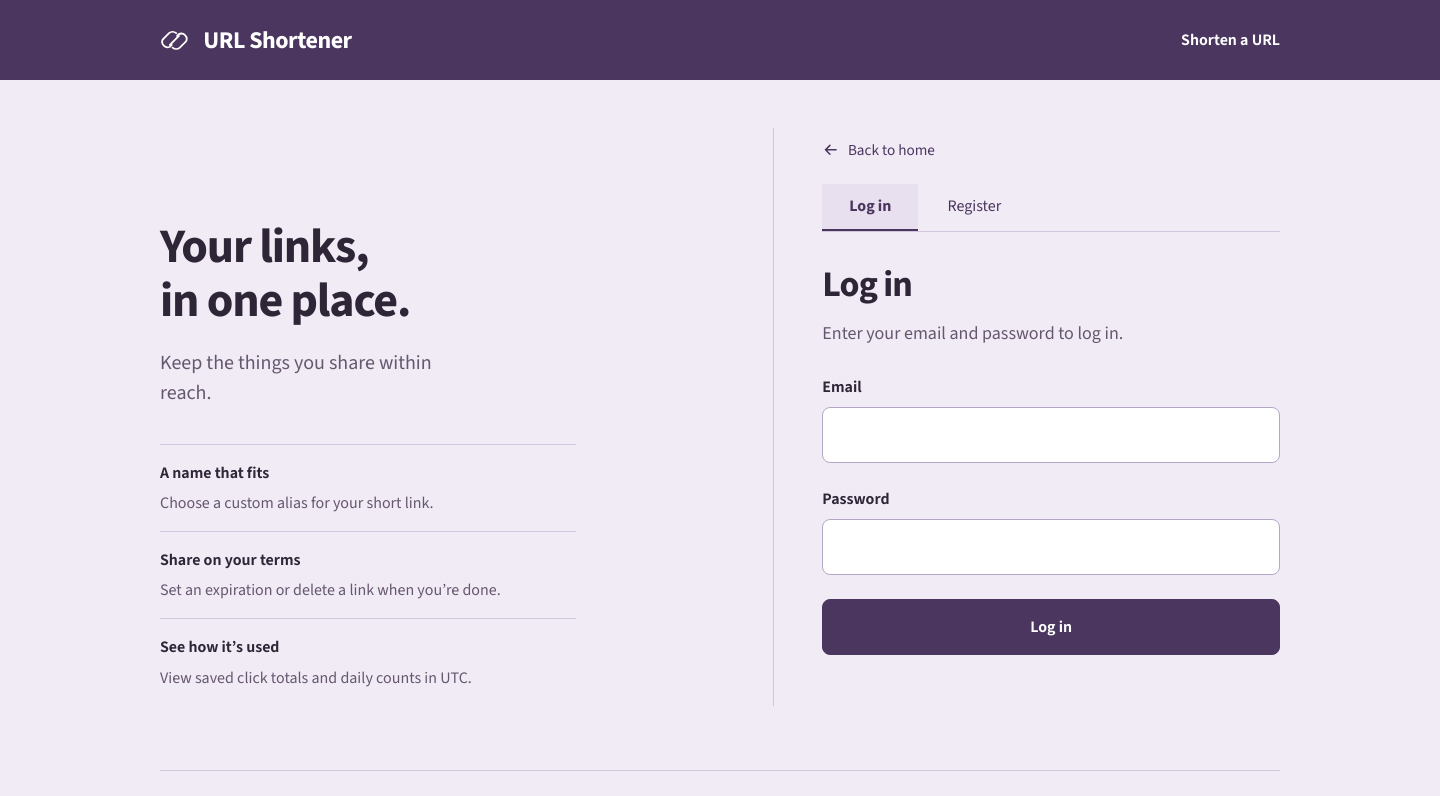
Scenario: mostra credenziali errate senza navigare
Type "user@example.com" into the field labelled "Email" at point(1051, 435), box [822,407,1280,463]
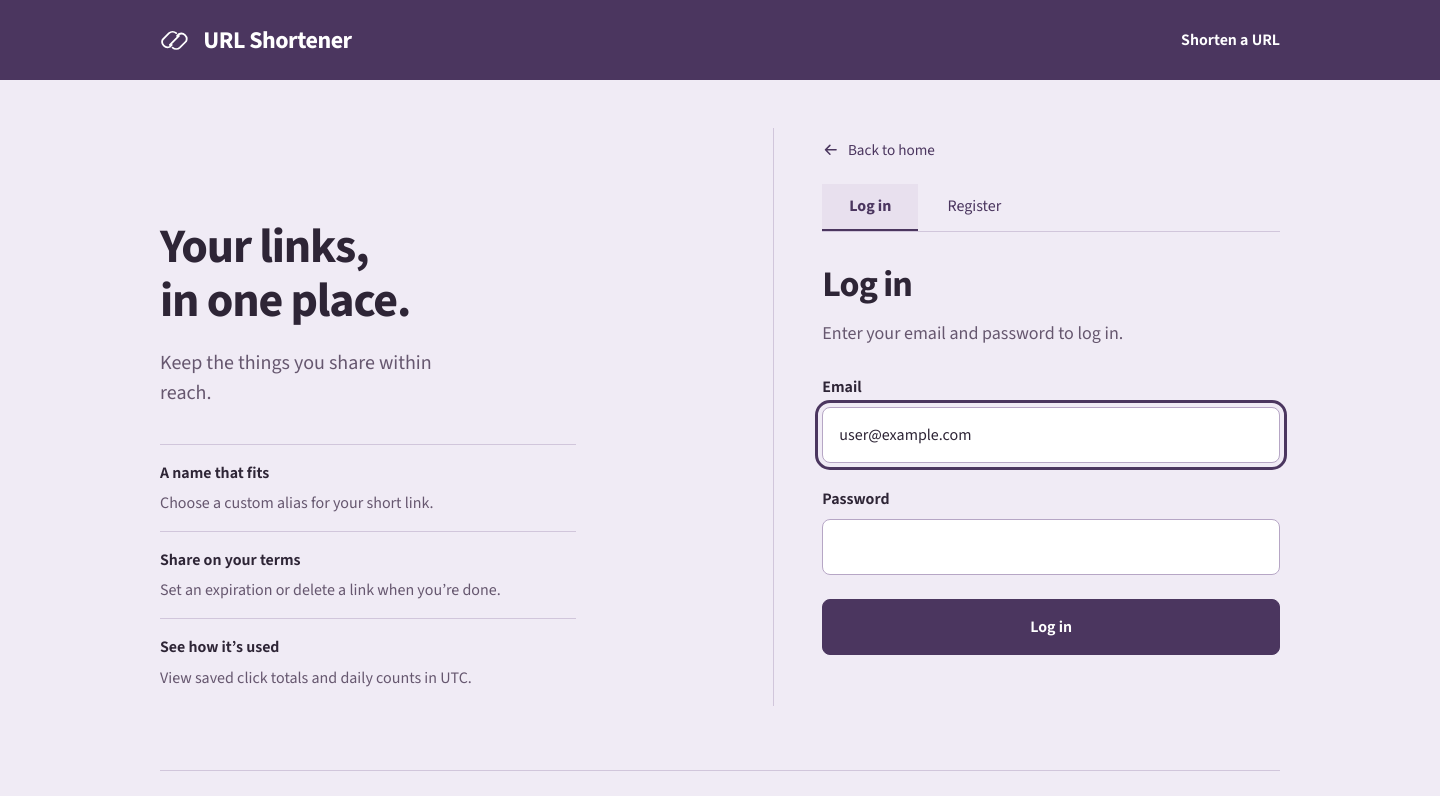
Type "wrong password" into the password field labelled "Password" at point(1051, 547), box [822,519,1280,575]
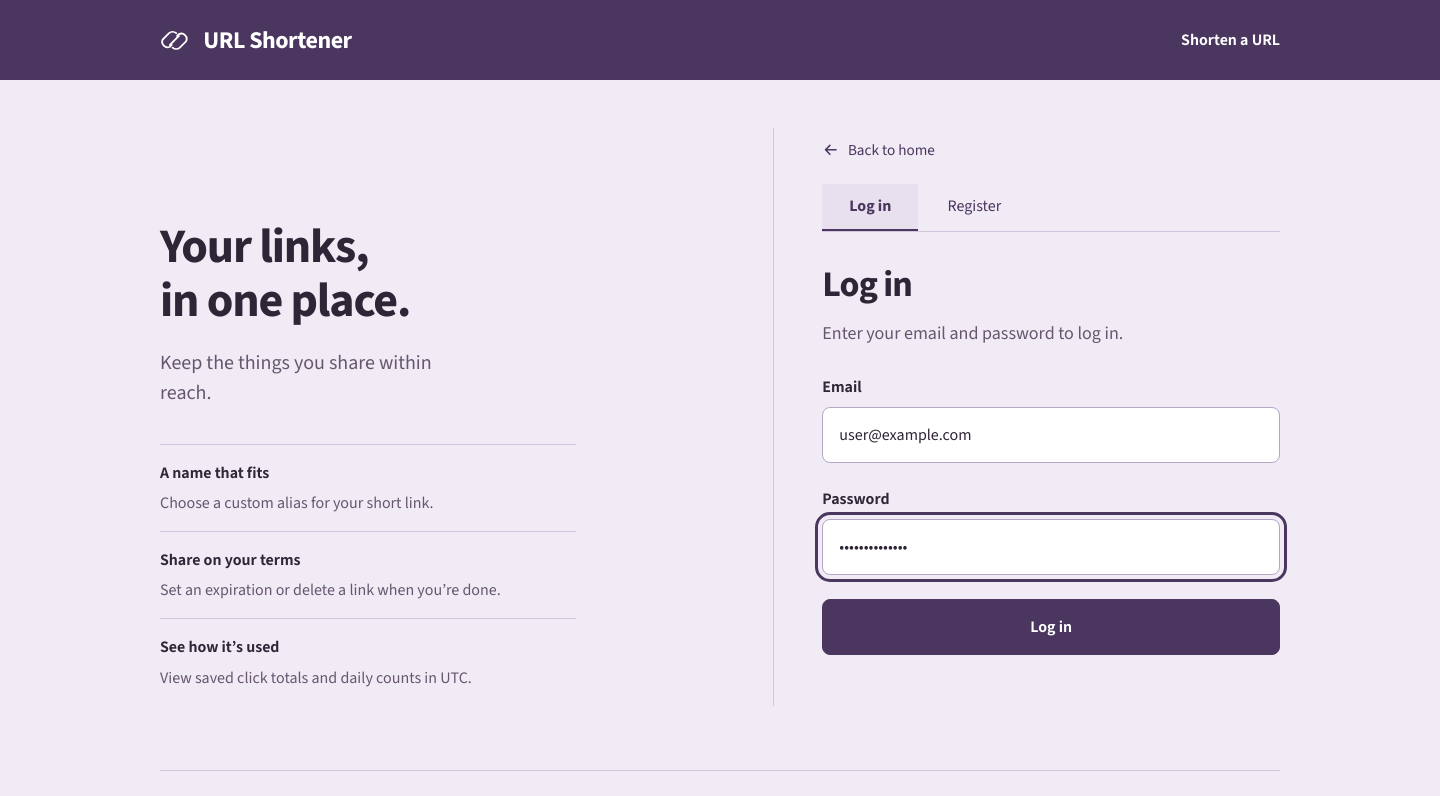
Click the button "Log in" at point(1051, 627), box [822,599,1280,655]
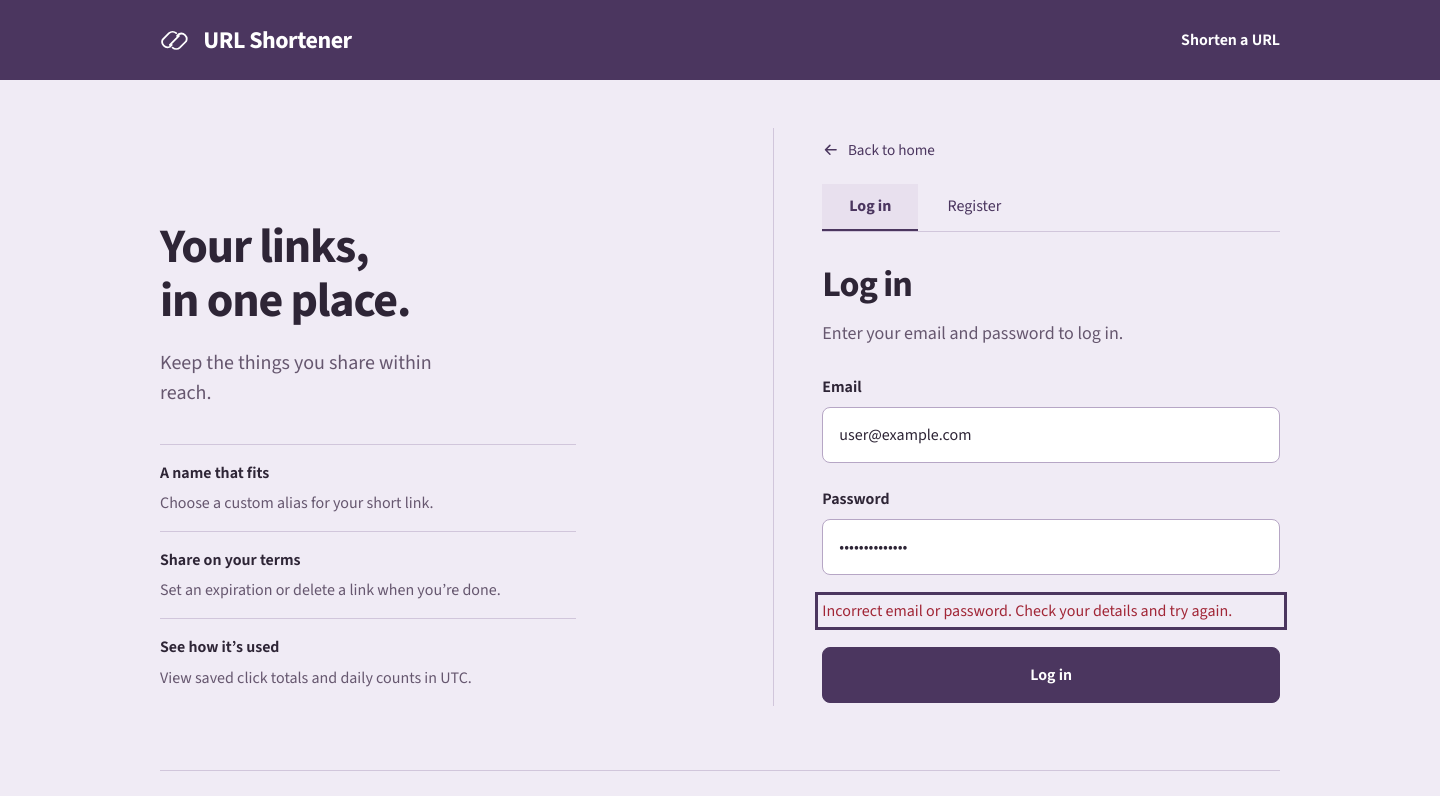
Result: the message shows "Incorrect email or password." at [822,600,1232,621]
